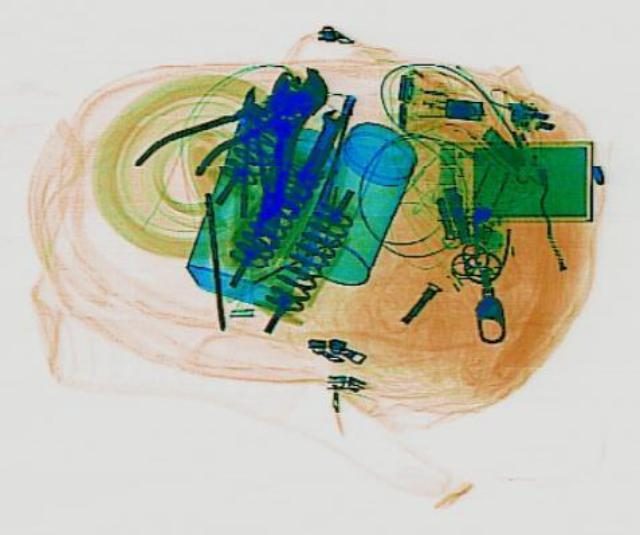Pliers: (128, 64, 326, 219), (190, 92, 322, 204)
Wrench: (240, 60, 328, 250)
